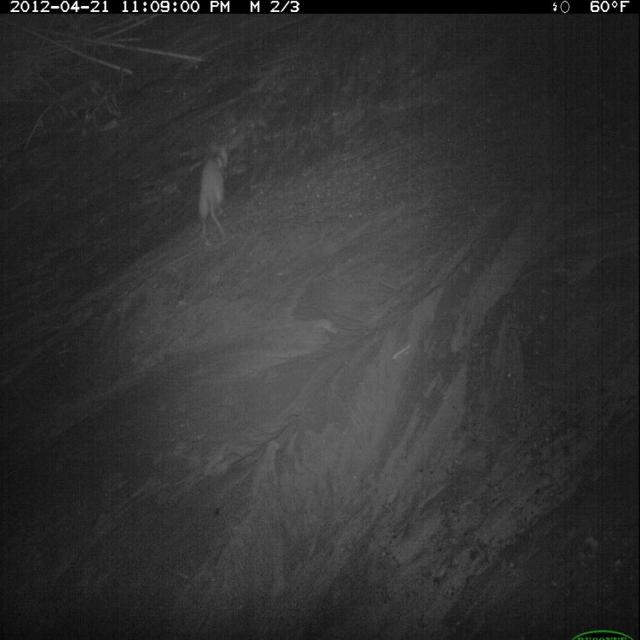opossum: (196, 137, 235, 254)
